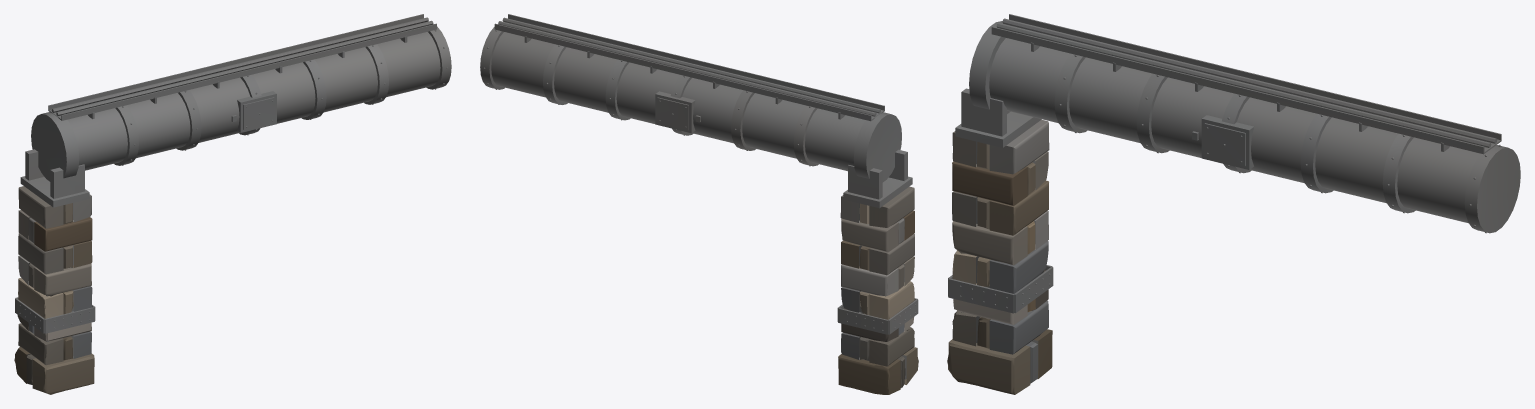
Rendered from TubeSeg_LOD0.glb.
The picture shows the model from 3 angles, left to right: view 1: azimuth 30°, elevation 25°; view 2: azimuth 150°, elevation 25°; view 3: azimuth 330°, elevation 25°; orthographic projection. The views are drawn at different scales.
Visible parts, largest first — view 1: TubeSeg_Metal_LOD0, TubeSeg_Masonry_LOD0; view 2: TubeSeg_Metal_LOD0, TubeSeg_Masonry_LOD0; view 3: TubeSeg_Metal_LOD0, TubeSeg_Masonry_LOD0.
Boxes of the visible parts, bbox=[...] form: TubeSeg_Metal_LOD0: bbox=[15, 14, 451, 333]; TubeSeg_Masonry_LOD0: bbox=[14, 186, 94, 394]; TubeSeg_Metal_LOD0: bbox=[480, 14, 918, 334]; TubeSeg_Masonry_LOD0: bbox=[838, 186, 918, 394]; TubeSeg_Metal_LOD0: bbox=[948, 14, 1520, 313]; TubeSeg_Masonry_LOD0: bbox=[947, 119, 1052, 394].
Bounding box in the file's own units: 7.85 × 4.98 × 1.2.
